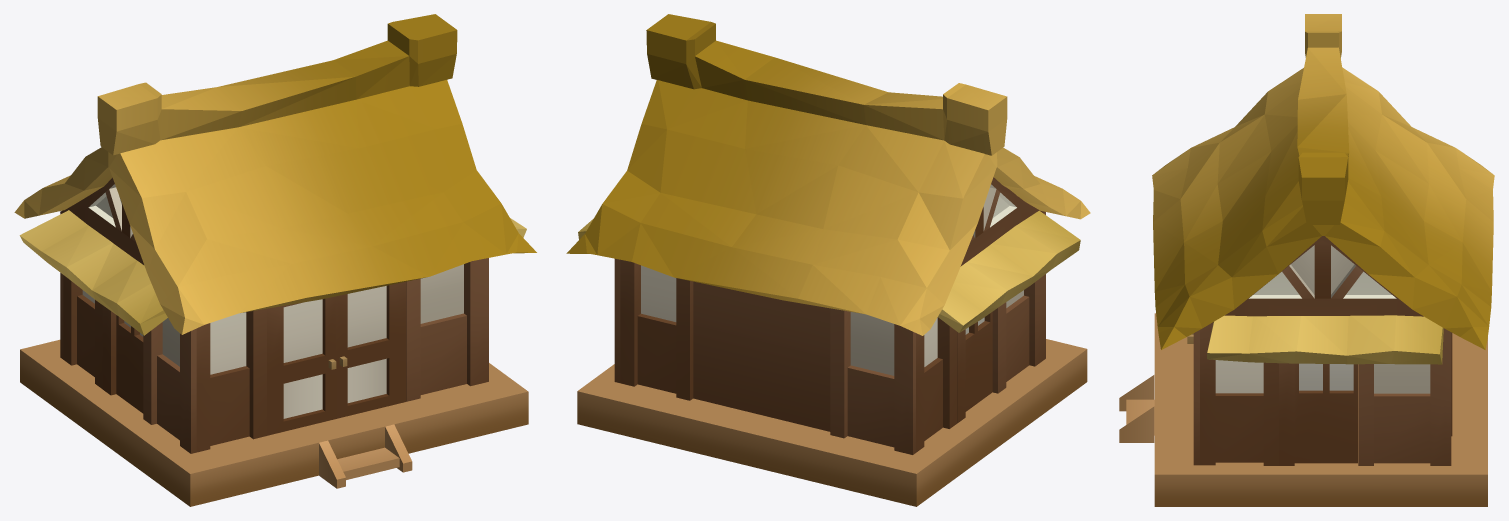
The model's file is House_4x3.gltf.
The picture shows the model from 3 angles, left to right: view 1: azimuth 30°, elevation 25°; view 2: azimuth 150°, elevation 25°; view 3: azimuth 270°, elevation 25°; orthographic projection. The views are drawn at different scales.
Visible parts, largest first — view 1: House_4x3_RoofOnly.001, House_4x3_Base.001, House_Wall_Corner.005, House_Wall_Corner.008, House_Door_1m_L.001, House_Door_1m_R.001, House_4x3_LowerRoof.002, House_Wall_Corner.006, House_Wall_1m_Window.001, House_4x3_Gable.001; view 2: House_4x3_RoofOnly.001, House_4x3_Base.001, House_Wall_2m_Brown.002, House_Wall_Corner.006, House_Wall_Corner.007, House_4x3_LowerRoof.002, House_Wall_Corner.005, House_Wall_1m_Window.001, House_4x3_Gable.001; view 3: House_4x3_RoofOnly.001, House_4x3_Base.001, House_4x3_LowerRoof.001, House_Wall_Corner.007, House_Wall_Corner.008, House_Wall_1m_Window.003, House_4x3_Gable.002.
Part boxes in pixels (x1=…): House_4x3_RoofOnly.001: x1=14, y1=14, x2=536, y2=334; House_4x3_Base.001: x1=20, y1=339, x2=528, y2=506; House_Wall_Corner.005: x1=143, y1=308, x2=266, y2=453; House_Wall_Corner.008: x1=406, y1=258, x2=488, y2=401; House_Door_1m_L.001: x1=267, y1=296, x2=336, y2=435; House_Door_1m_R.001: x1=336, y1=282, x2=406, y2=418; House_4x3_LowerRoof.002: x1=19, y1=210, x2=167, y2=335; House_Wall_Corner.006: x1=60, y1=213, x2=102, y2=388; House_Wall_1m_Window.001: x1=102, y1=305, x2=143, y2=413; House_4x3_Gable.001: x1=60, y1=177, x2=143, y2=264; House_4x3_RoofOnly.001: x1=566, y1=14, x2=1090, y2=335; House_4x3_Base.001: x1=577, y1=339, x2=1087, y2=506; House_Wall_2m_Brown.002: x1=693, y1=281, x2=830, y2=431; House_Wall_Corner.006: x1=830, y1=308, x2=957, y2=454; House_Wall_Corner.007: x1=614, y1=258, x2=693, y2=400; House_4x3_LowerRoof.002: x1=938, y1=210, x2=1080, y2=332; House_Wall_Corner.005: x1=992, y1=212, x2=1045, y2=393; House_Wall_1m_Window.001: x1=957, y1=312, x2=992, y2=423; House_4x3_Gable.001: x1=960, y1=177, x2=1045, y2=266; House_4x3_RoofOnly.001: x1=1152, y1=14, x2=1494, y2=349; House_4x3_Base.001: x1=1119, y1=313, x2=1487, y2=506; House_4x3_LowerRoof.001: x1=1207, y1=315, x2=1443, y2=364; House_Wall_Corner.007: x1=1358, y1=328, x2=1452, y2=465; House_Wall_Corner.008: x1=1193, y1=323, x2=1278, y2=465; House_Wall_1m_Window.003: x1=1279, y1=363, x2=1357, y2=465; House_4x3_Gable.002: x1=1211, y1=236, x2=1423, y2=323.
Size of the model in its own units: 5.54 by 4.7 by 4.75.
1 material, 1 textured.
